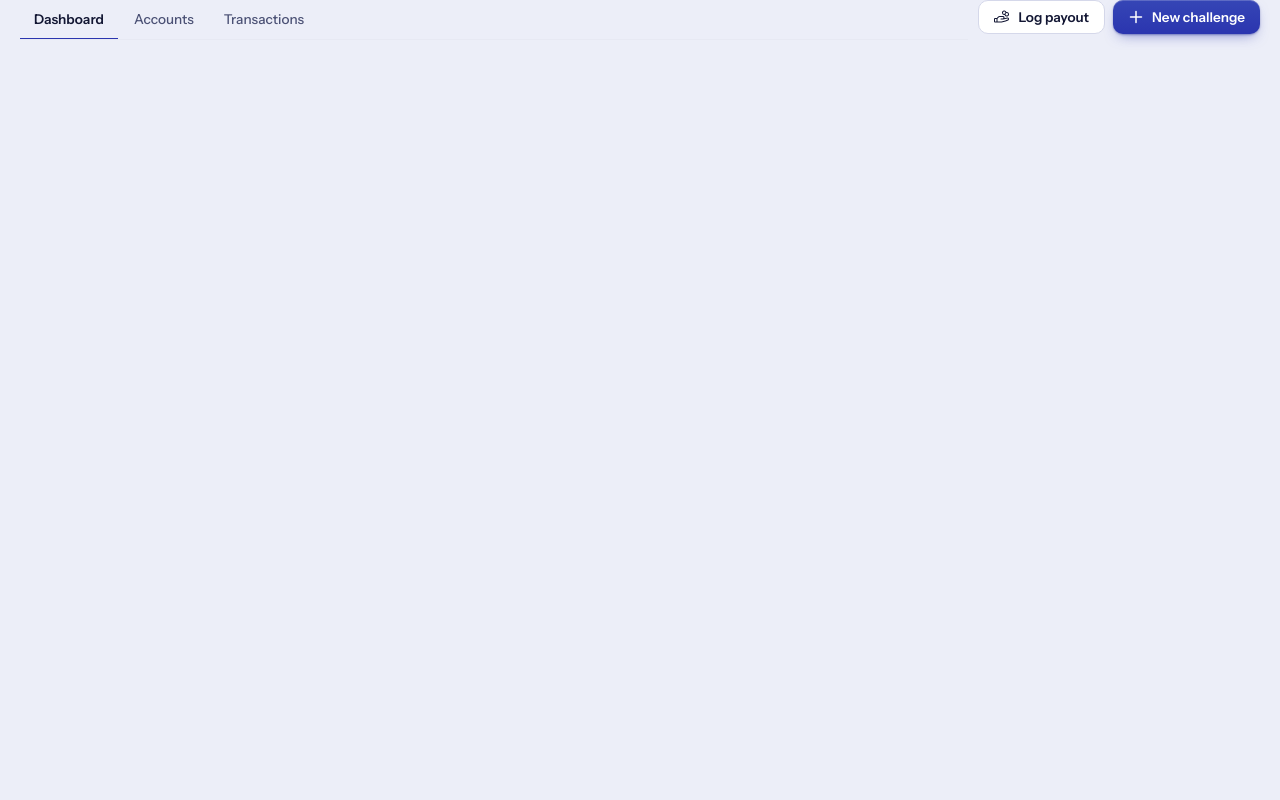
Test case: New challenge opens the form
Click the button "New challenge". click: (1187, 17)
box: [1113, 0, 1260, 34]
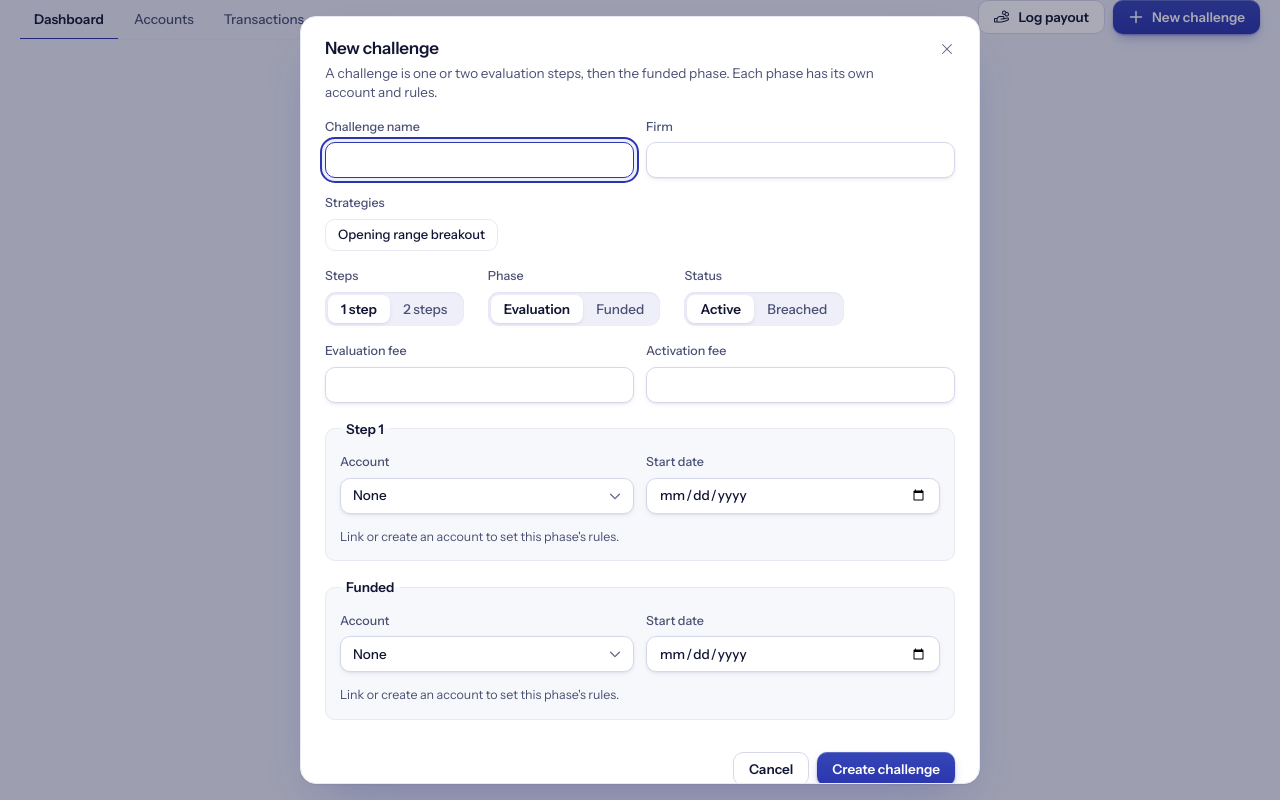
Check: the dialog "New challenge" is shown, box [300, 16, 980, 784]
